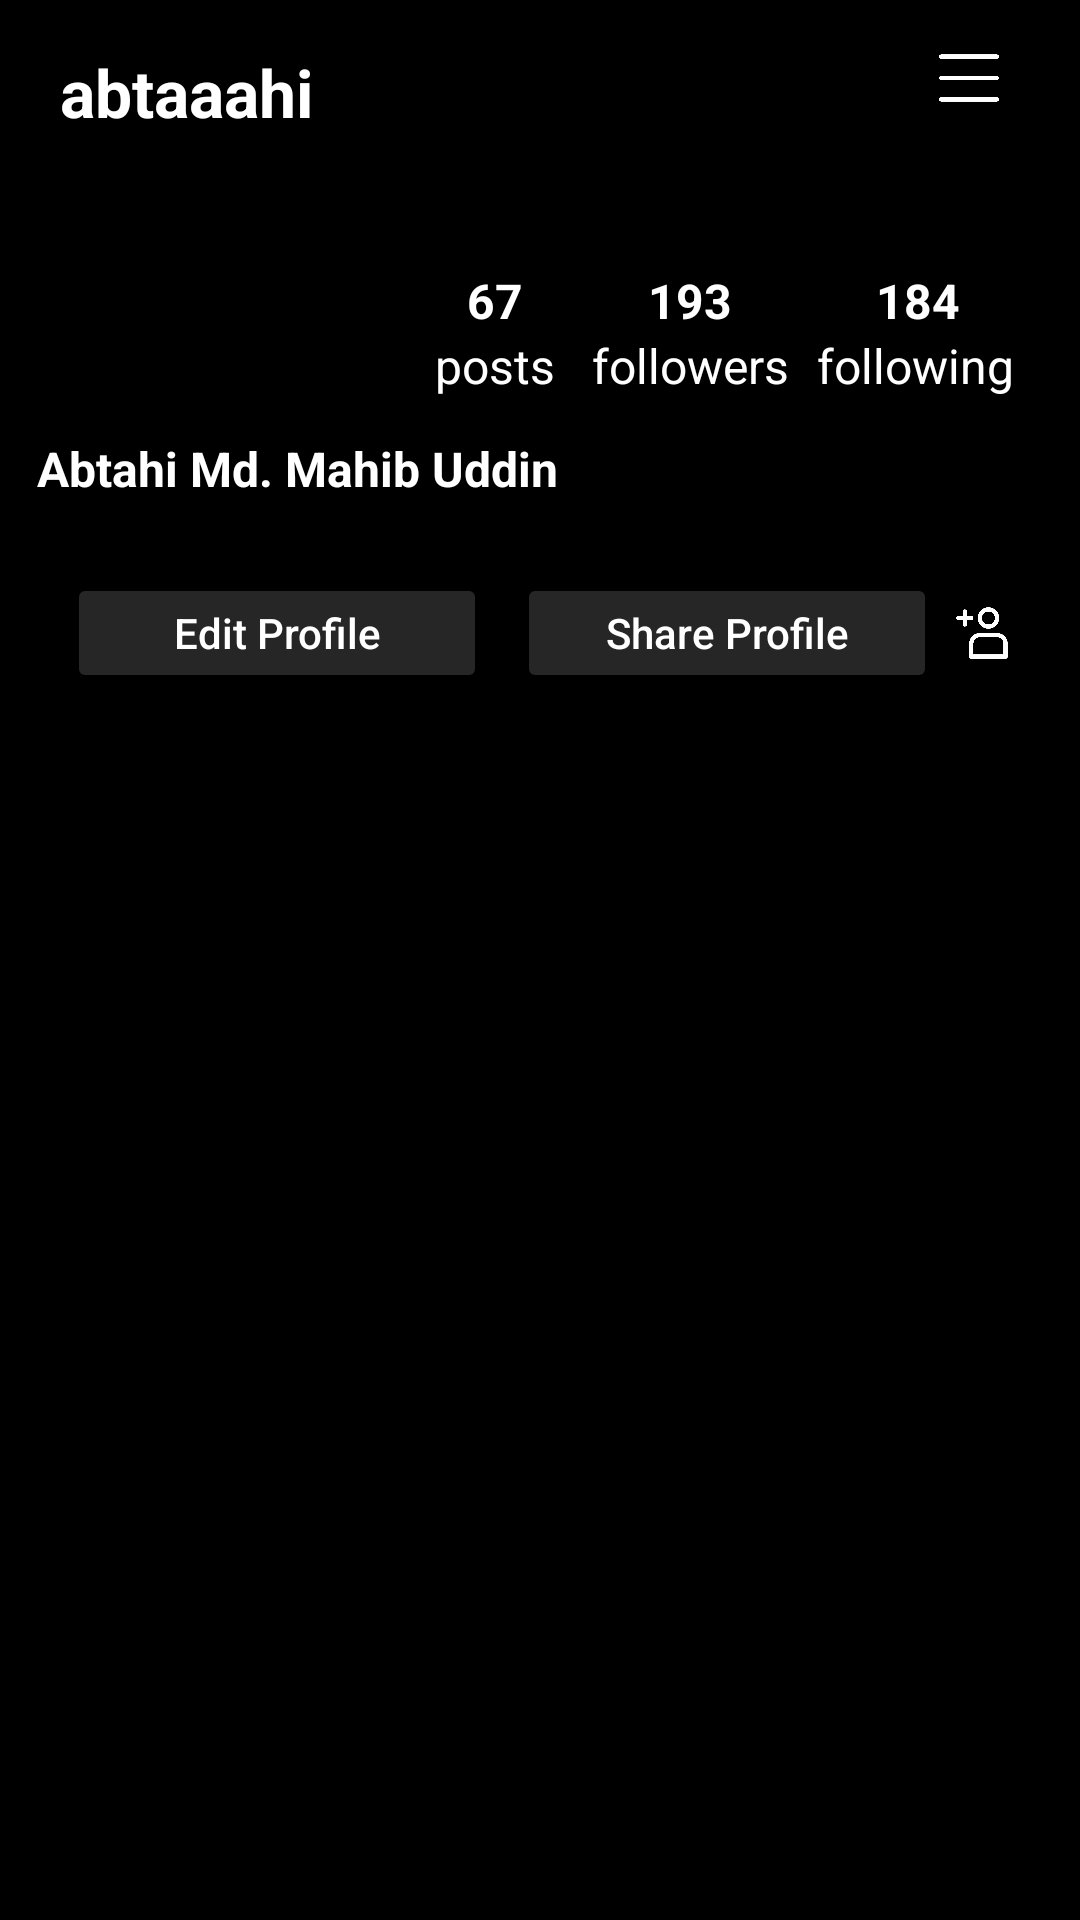

Screen size 1080 x 1920. Icon name, then its box in pixels as Rect(x1, y1, x2, y2):
follow: Rect(956, 607, 1008, 659)
menu: Rect(939, 54, 999, 102)
